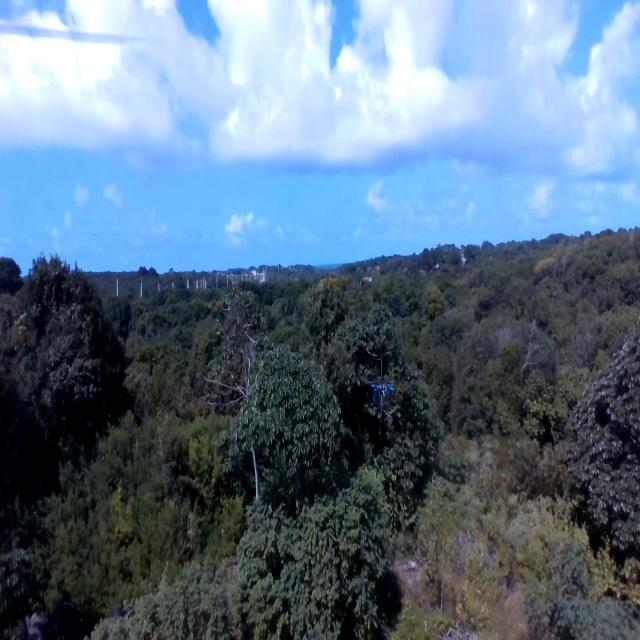-uav-: (369, 369, 395, 419)
